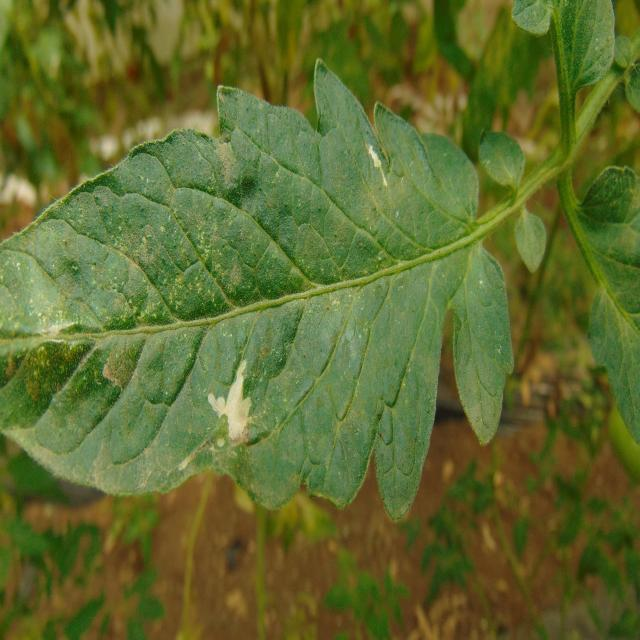Tuta absoluta: (207, 358, 253, 441), (368, 142, 382, 171)
